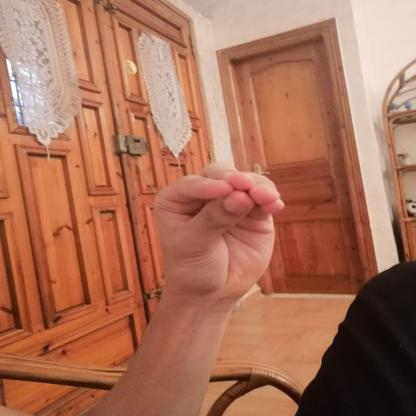HA: (126, 147, 300, 314)
